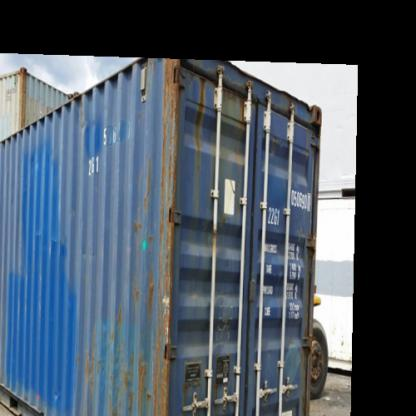Damage: (160, 60, 180, 338), (113, 351, 152, 413), (191, 71, 211, 181), (128, 275, 156, 320), (28, 226, 70, 256), (226, 78, 249, 111), (21, 148, 50, 174), (78, 243, 104, 269), (71, 108, 93, 134), (42, 384, 68, 406), (141, 160, 151, 212), (128, 217, 146, 237)
